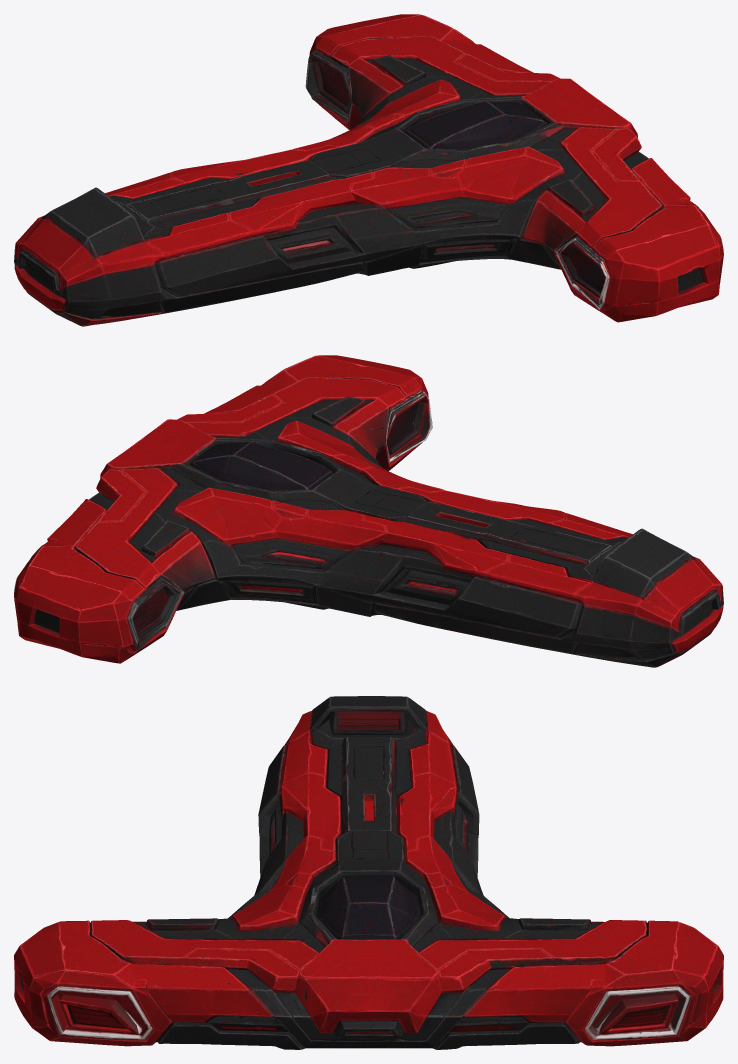
File: kraal.glb
3 views of the same model, one above another, from view 1: azimuth 30°, elevation 25°; view 2: azimuth 150°, elevation 25°; view 3: azimuth 270°, elevation 25° (orthographic). The views are drawn at different scales.
Bounding box in the file's own units: 1.9 × 0.3384 × 1.89.
1 material, 1 textured.
